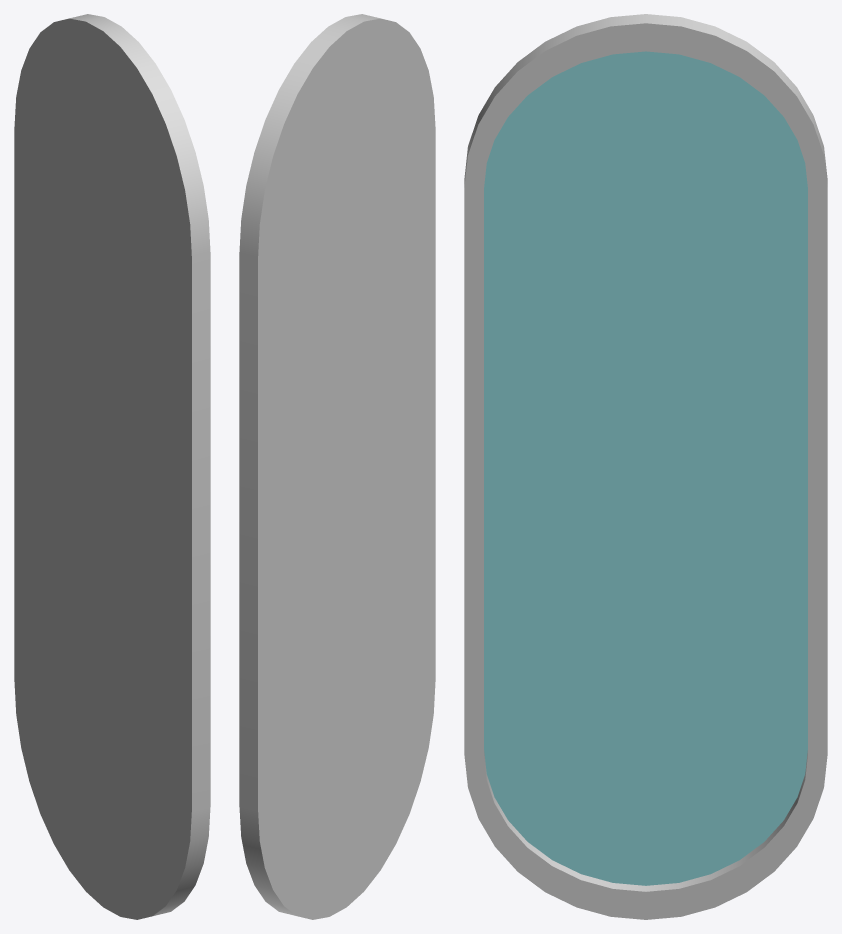
The model's file is espejoPared1.fbx.
3 renders of one model, left to right at view 1: azimuth 30°, elevation 25°; view 2: azimuth 150°, elevation 25°; view 3: azimuth 270°, elevation 25°, orthographic. The views are drawn at different scales.
Visible parts, largest first — view 1: EspejoPared1; view 2: EspejoPared1; view 3: EspejoPared1.
Part boxes in pixels (<box>): EspejoPared1: <box>14,14,210,919</box>; EspejoPared1: <box>239,14,435,919</box>; EspejoPared1: <box>464,14,827,919</box>.
Bounding box in the file's own units: 44.36 × 1994 × 732.
